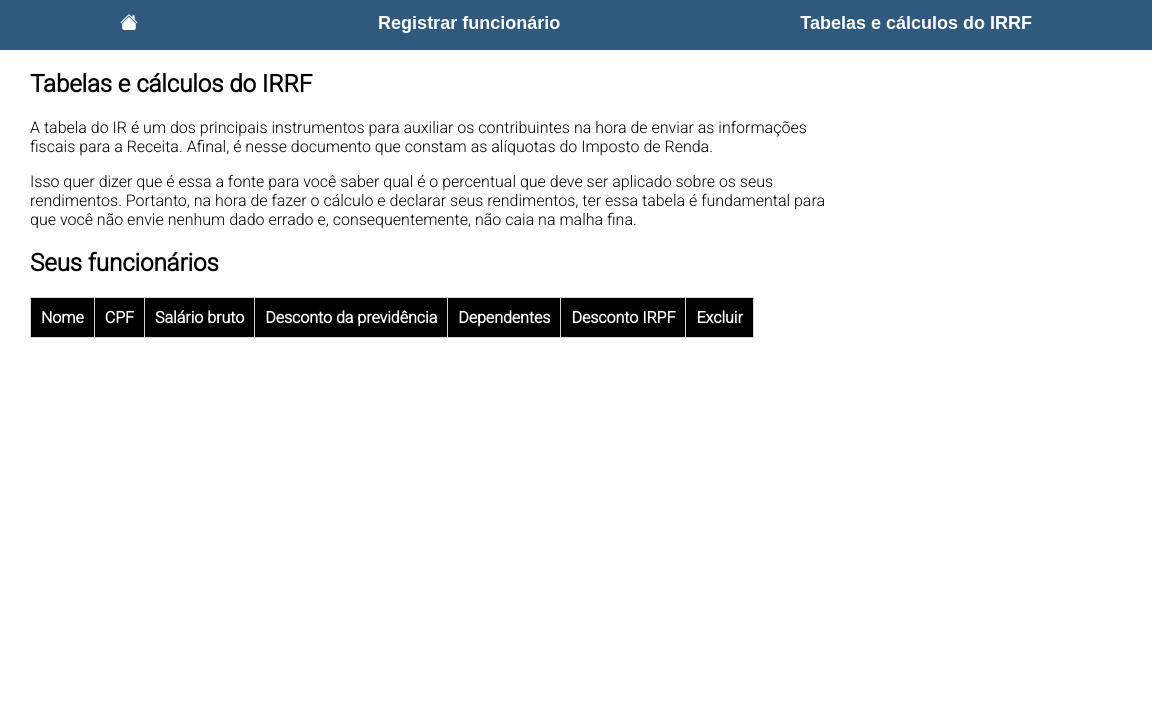
Test: a página com a tabela do IRRF possui botões que direcionam para página de adicionar funcionário e para a página inicial
The width and height of the screenshot is (1152, 720).
Click the button "Tabelas e cálculos do IRRF" at (916, 24), box [794,12,1038,35]
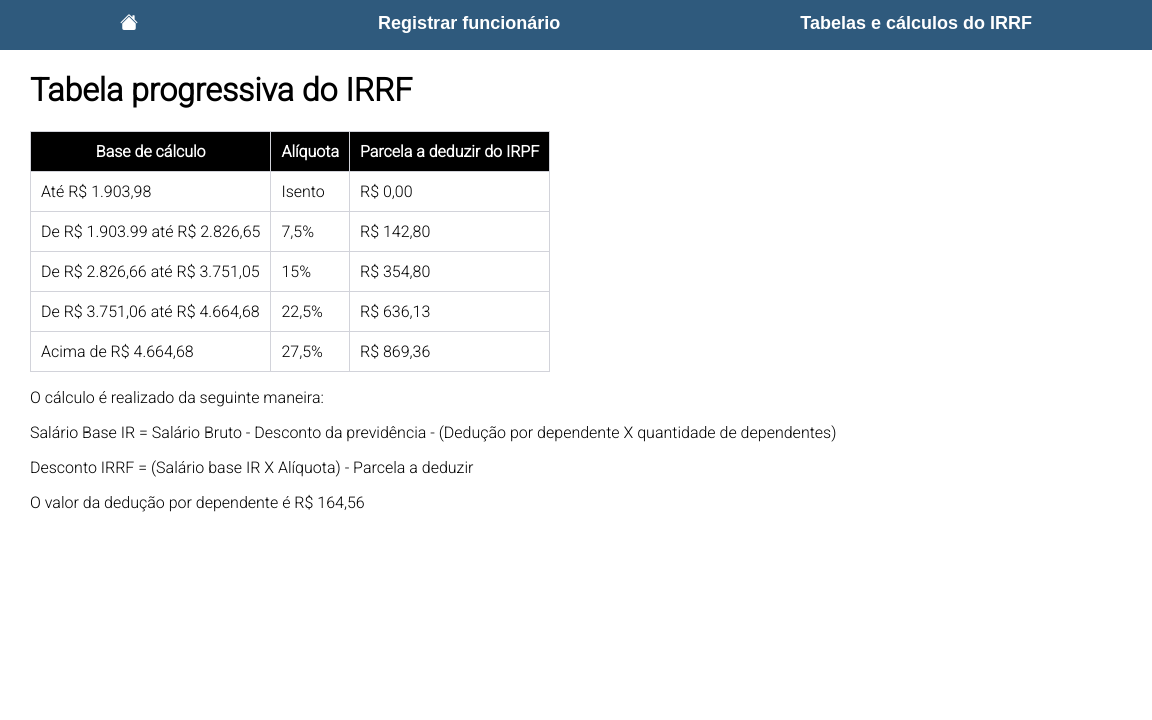
Click the button "Registrar funcionário" at (469, 24), box [372,12,566,35]
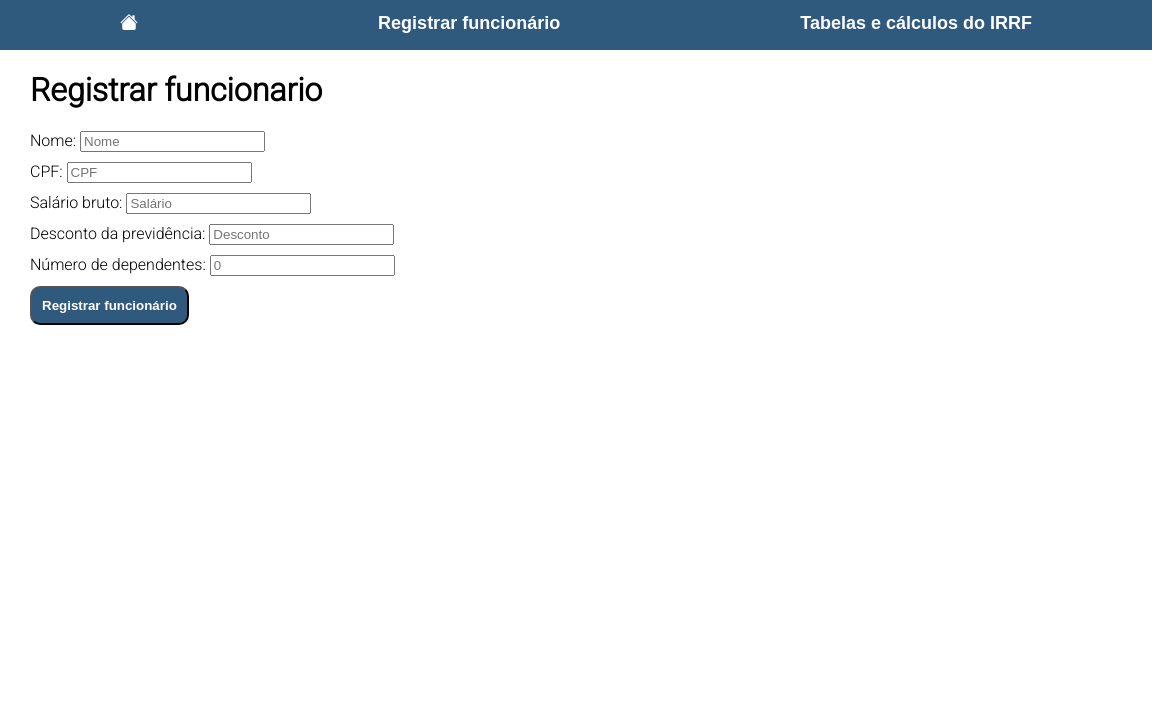
Now the heading "Registrar funcionario" is shown, box [30,71,322,109]
Click the button with test id "botao-pagina-inical" at (129, 24), box [114,12,144,37]
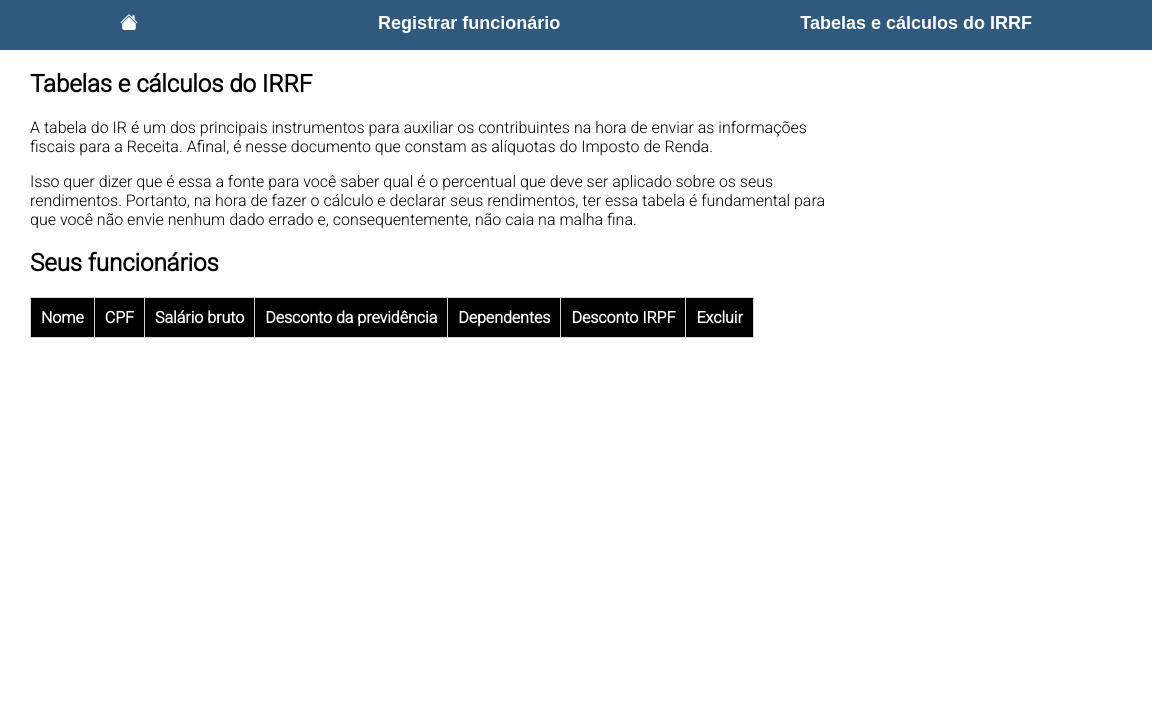
Now the heading "Tabelas e cálculos do IRRF" is shown, box [30,70,312,98]
